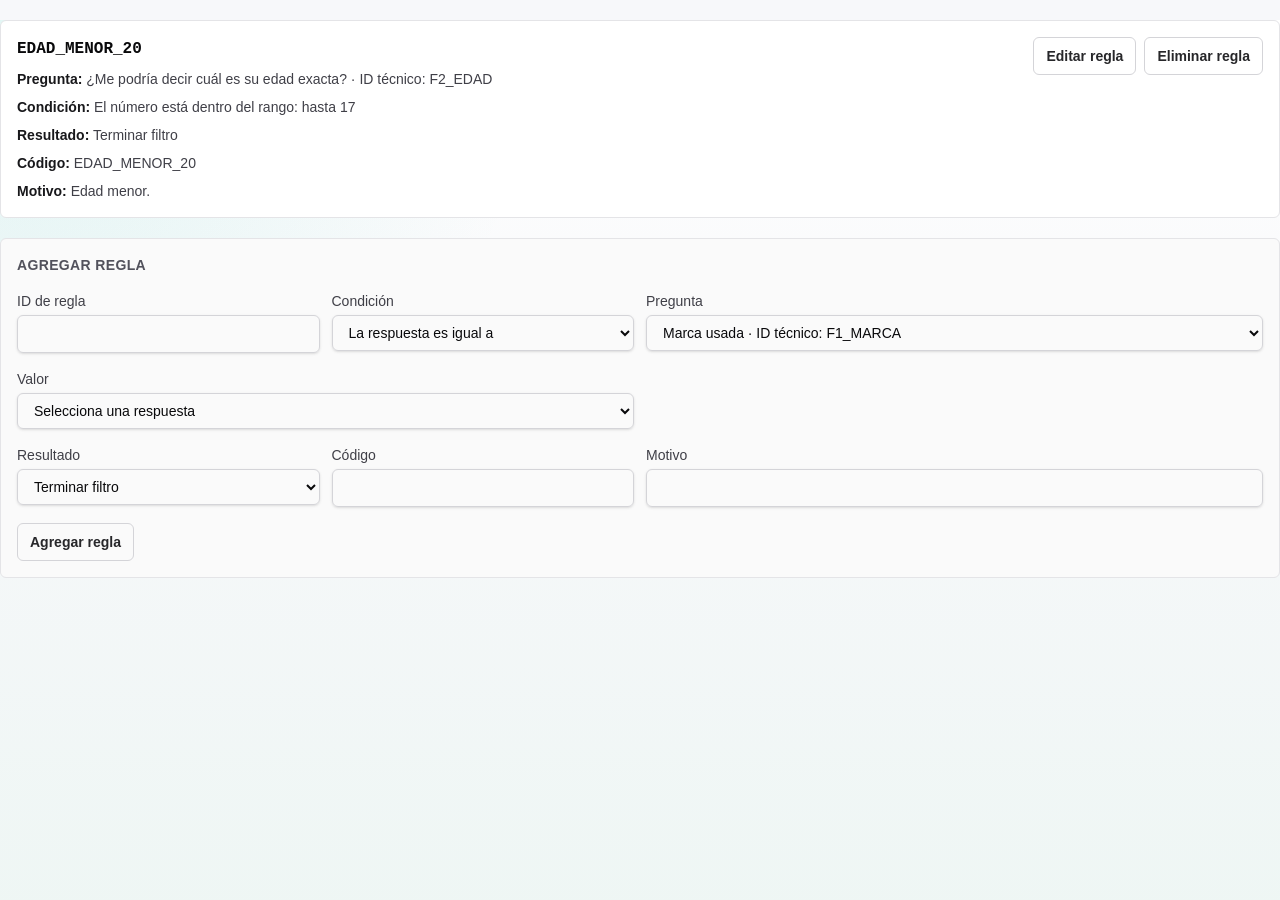
Scenario: RuleGuidedForm › conserva valores escritos cuando el servidor devuelve error
Click the button "Editar regla". click: [1085, 56]
box: [1033,37,1136,75]
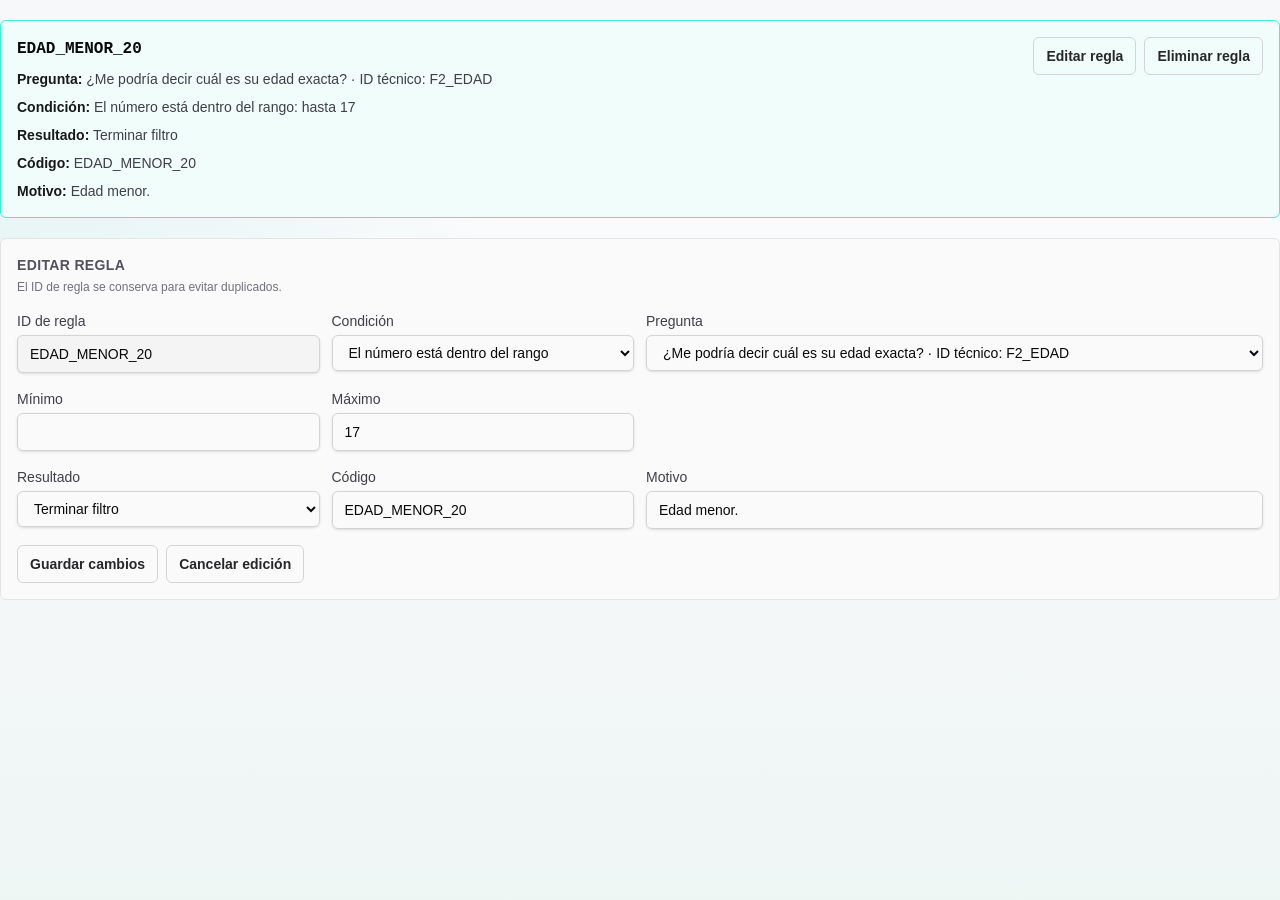
Replace the text in the field labelled "Motivo" with "La edad es menor a 20 años.". click: [954, 510]
box: [646,491,1263,529]
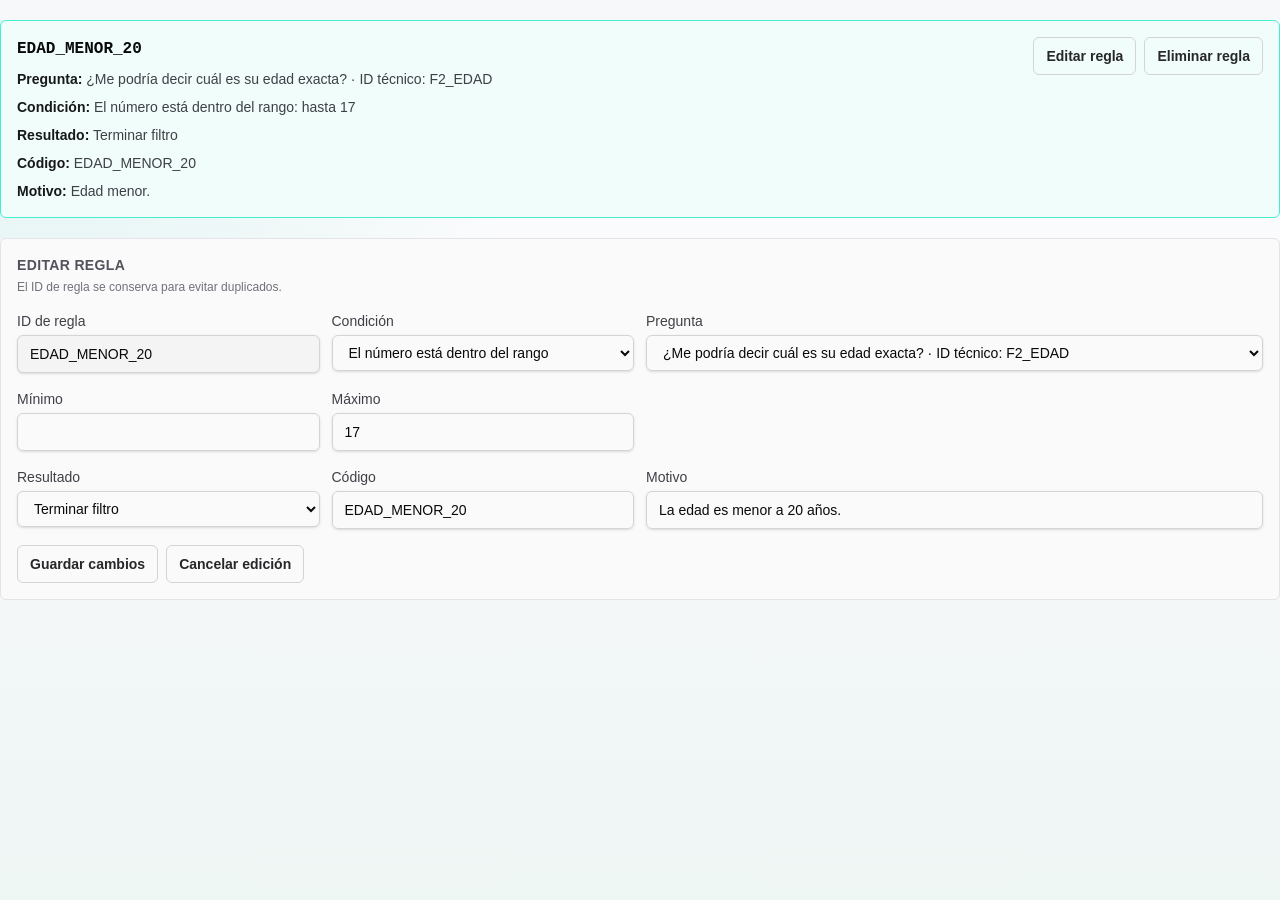
Click the button "Guardar cambios". click: [88, 564]
box: [17,545,158,583]
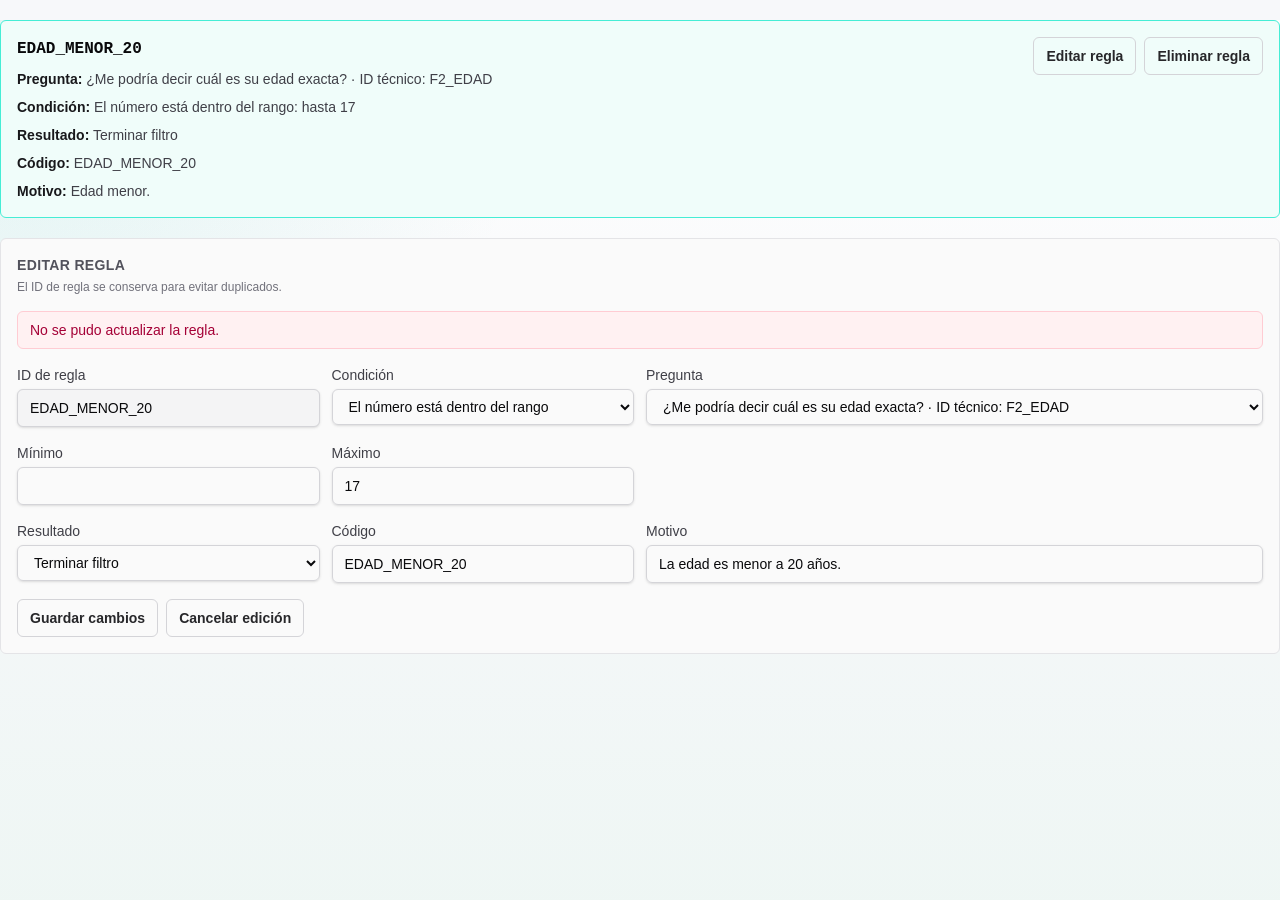
Check: the message reads "No se pudo actualizar la regla.", box [30,322,219,338]
